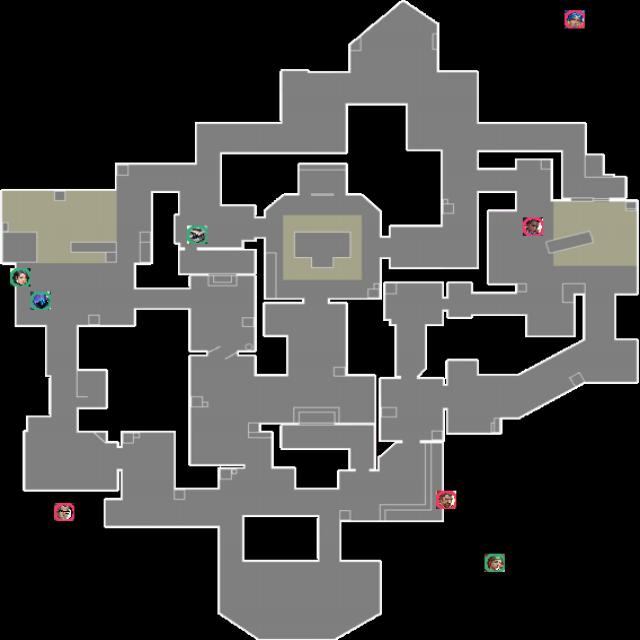atk_astra: (523, 217, 543, 236)
atk_breach: (436, 491, 456, 509)
atk_chamber: (54, 503, 74, 521)
atk_neon: (564, 10, 585, 29)
def_cypher: (187, 225, 207, 244)
def_omen: (30, 291, 51, 310)
def_sage: (10, 268, 31, 287)
def_skye: (484, 554, 505, 572)
